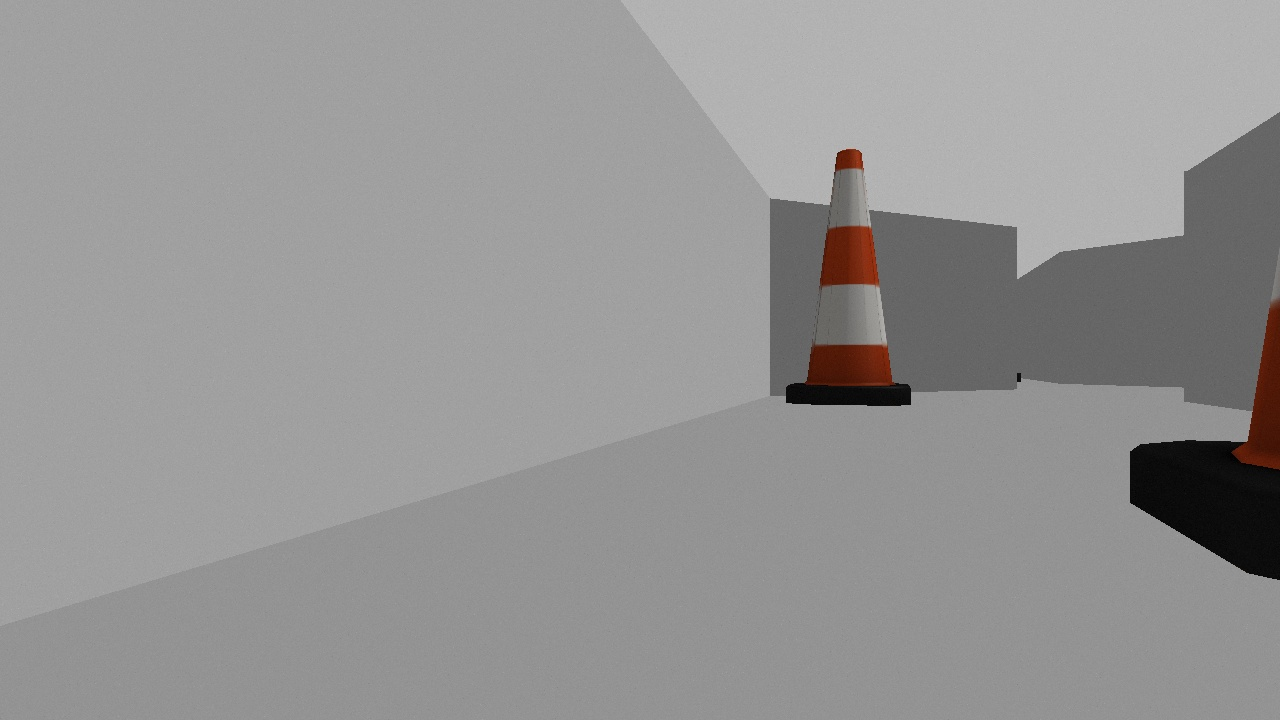barricade: (778, 146, 921, 409)
